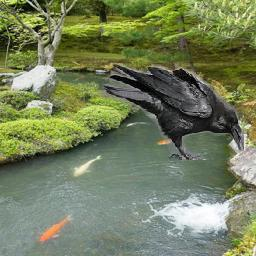Crow: (102, 64, 244, 161)
